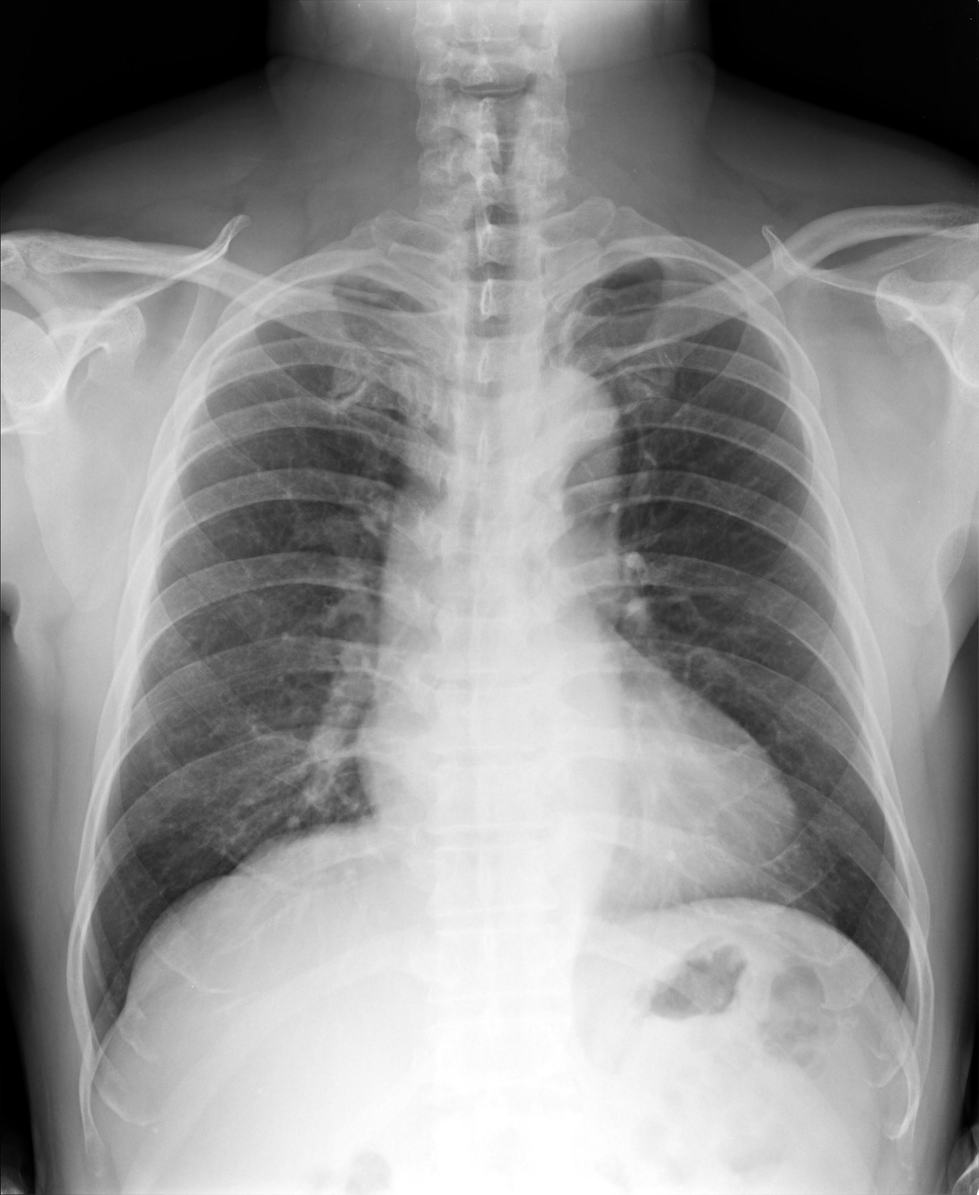Aortic enlargement: (399, 366, 619, 542)
